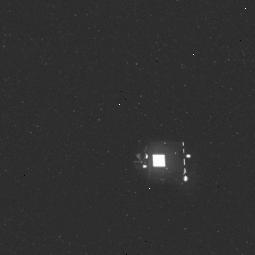proba_3_ocs: (126, 131, 196, 197)
